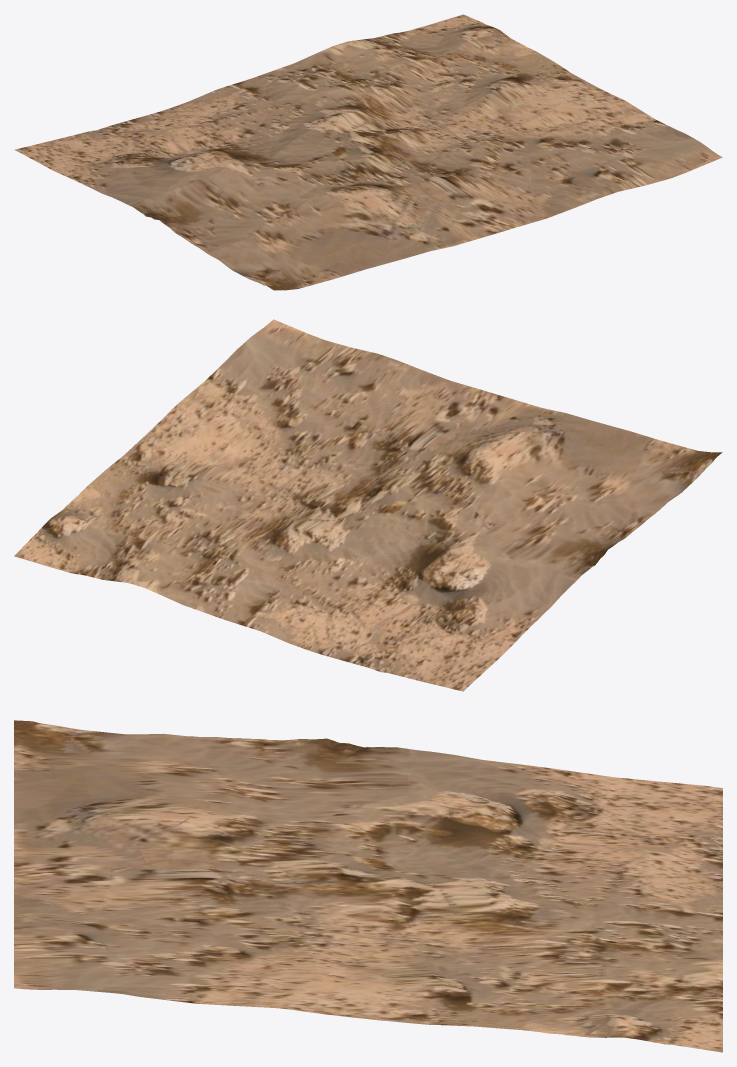
The picture shows the model from 3 angles, top to bottom: view 1: azimuth 30°, elevation 25°; view 2: azimuth 150°, elevation 25°; view 3: azimuth 270°, elevation 25°; orthographic projection. The views are drawn at different scales.
Size of the model in its own units: 2.09 by 0.326 by 2.09.
Materials: 2 (2 with a texture image).
